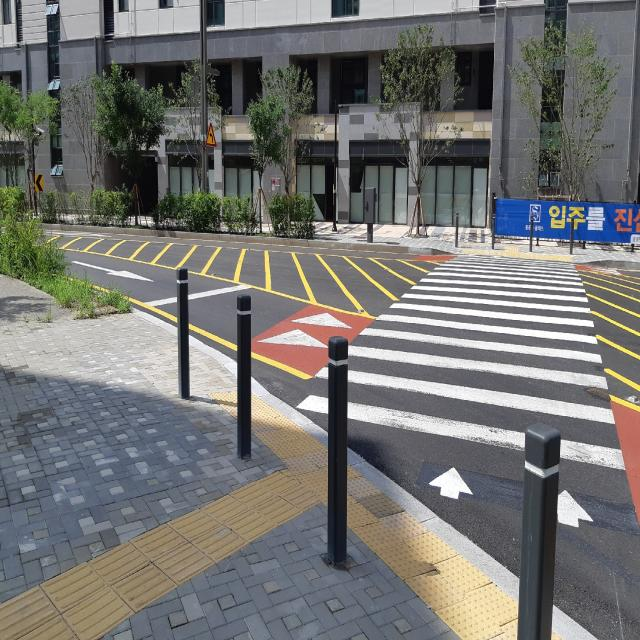횡단보도: (292, 245, 628, 537)
